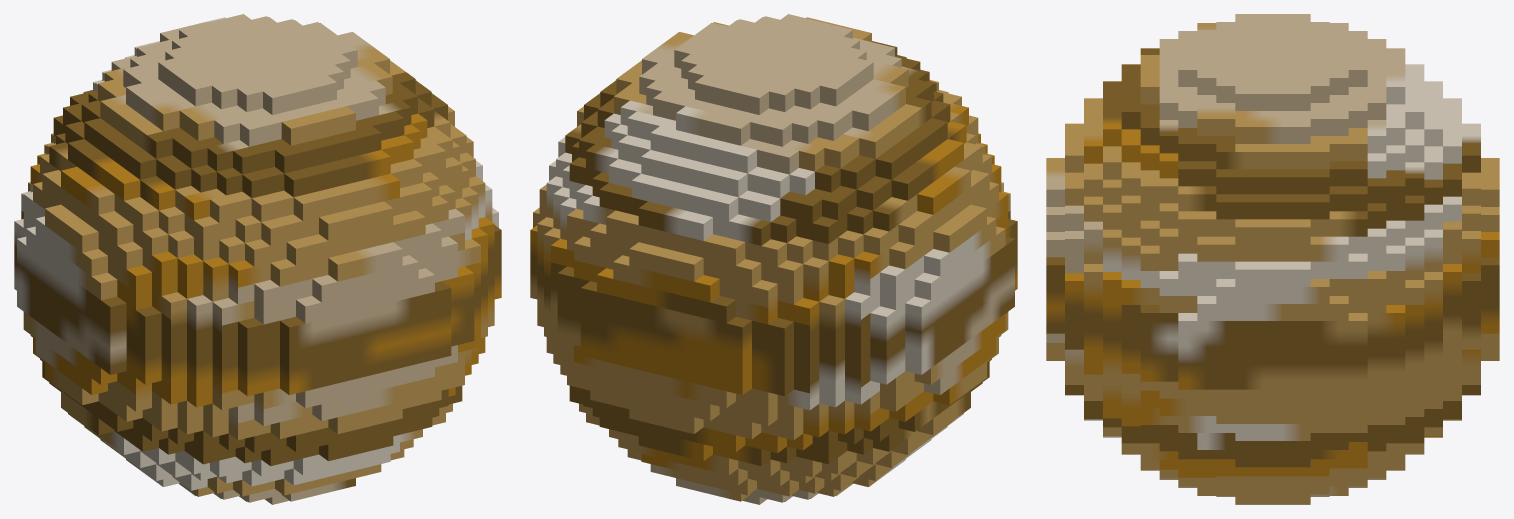
File: Venus.fbx
The picture shows the model from 3 angles, left to right: view 1: azimuth 30°, elevation 25°; view 2: azimuth 150°, elevation 25°; view 3: azimuth 270°, elevation 25°; orthographic projection.
Visible parts, largest first — view 1: Venus; view 2: Venus; view 3: Venus.
Boxes of the visible parts, bbox=[...] form: Venus: bbox=[14, 14, 501, 504]; Venus: bbox=[530, 14, 1017, 504]; Venus: bbox=[1046, 14, 1499, 504].
Bounding box in the file's own units: 24 × 24 × 24.
Materials: 1 (1 with a texture image).
